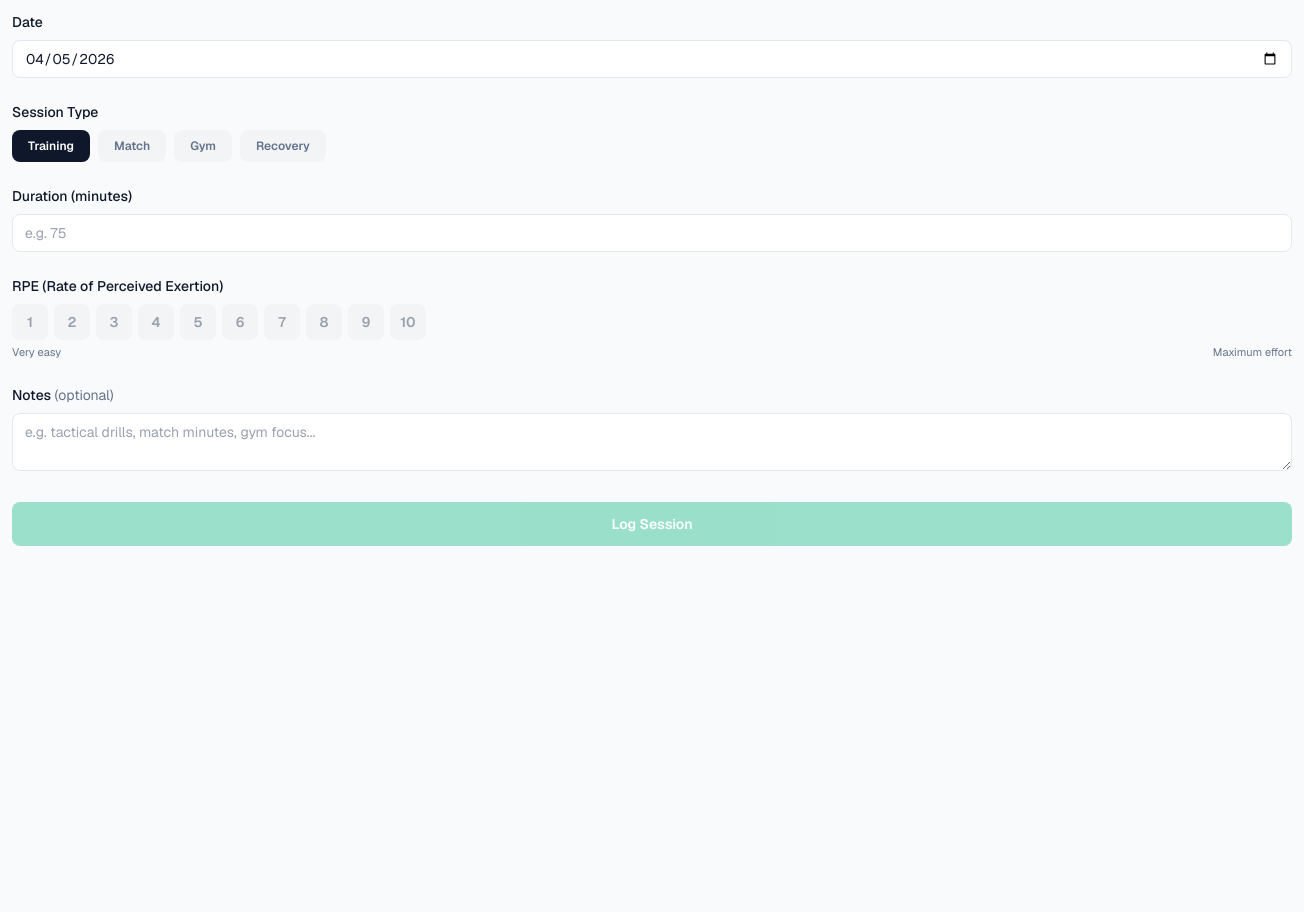
Test: SessionForm submit flow › submits to the API and shows success with session load
Type "75" into the number field labelled "Duration (minutes)" at (652, 233), box [12,214,1292,252]
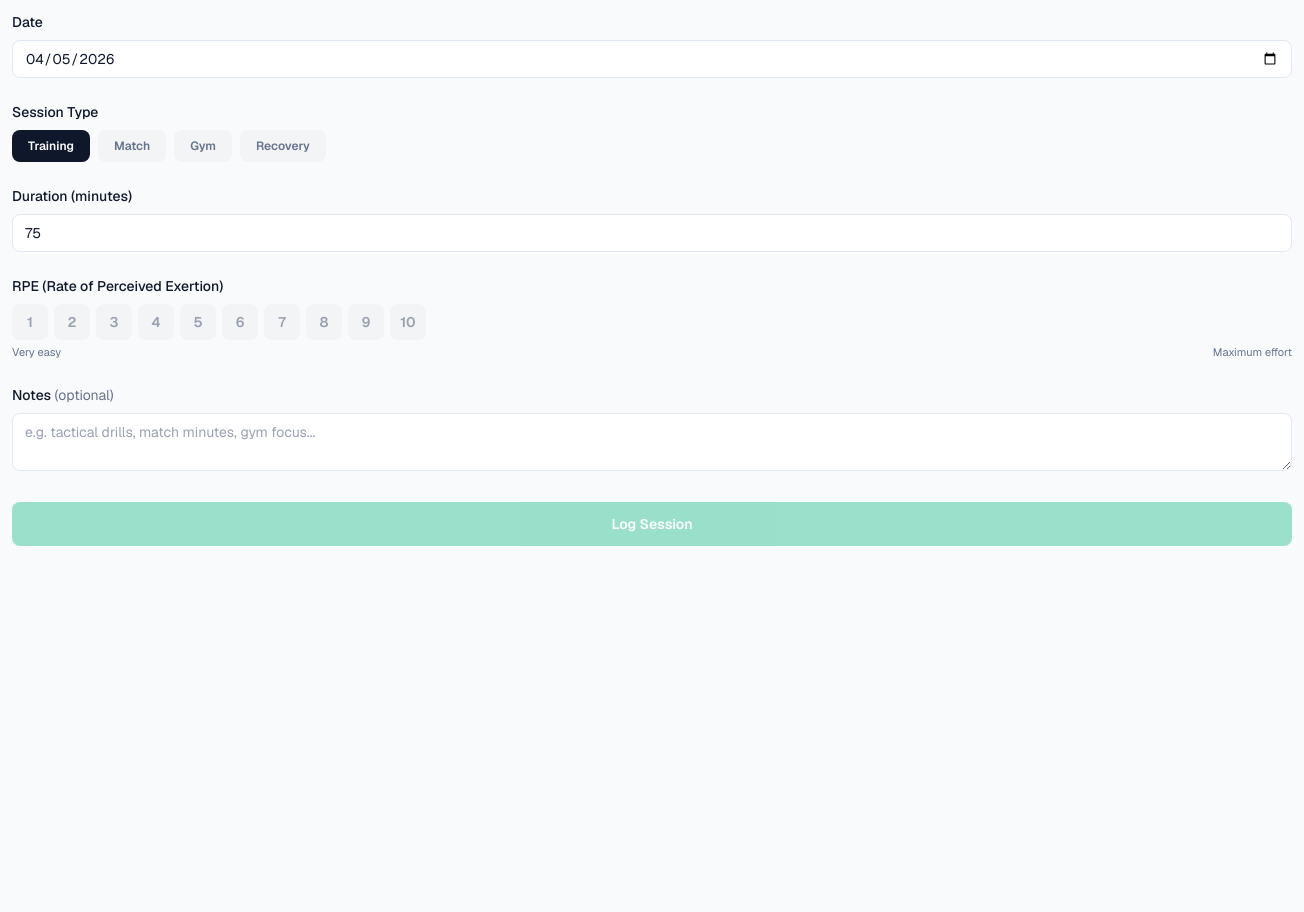
Click the button "6" at (240, 322), box [222,304,258,340]
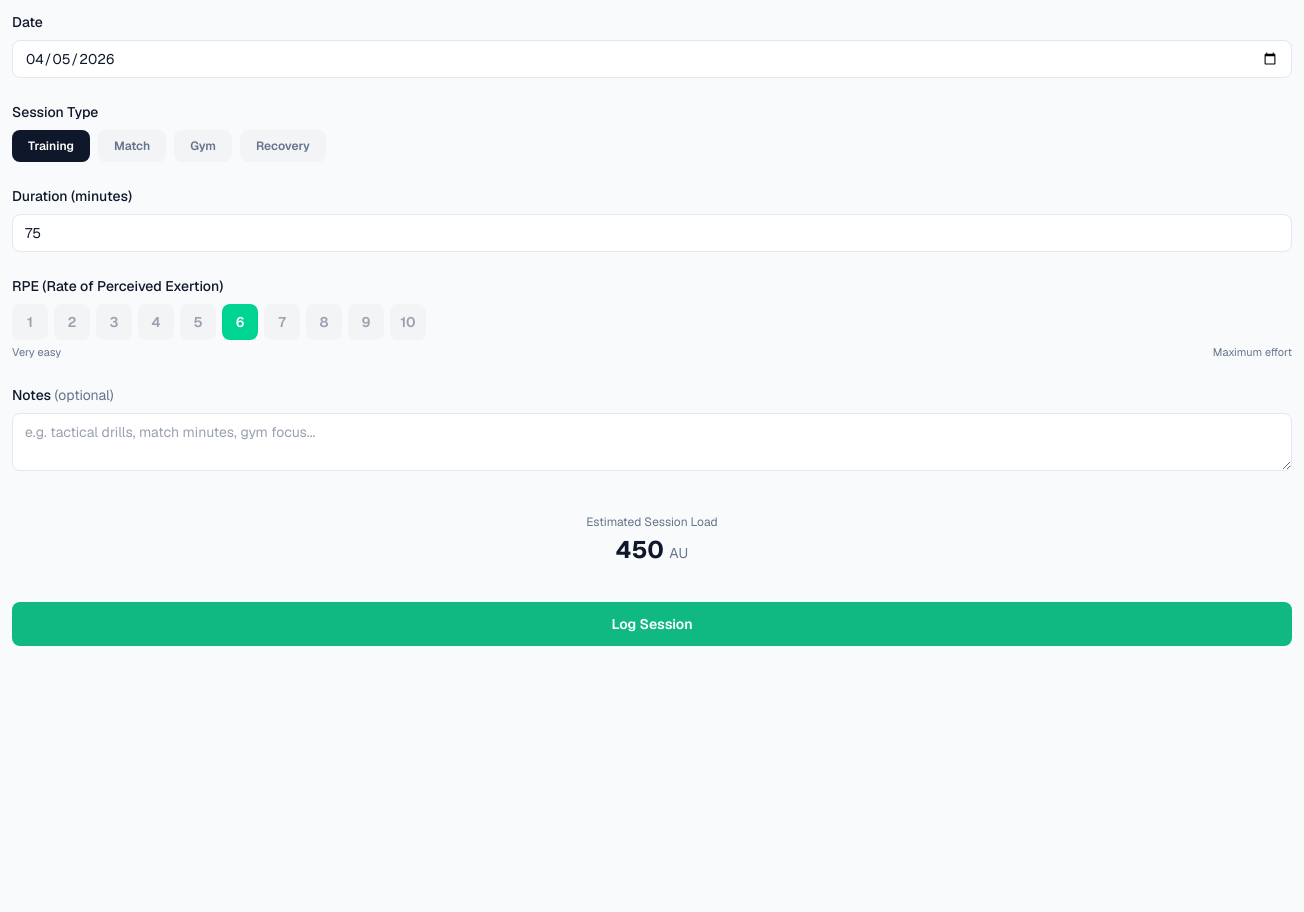
Click the button "Log Session" at (652, 624), box [12,602,1292,646]
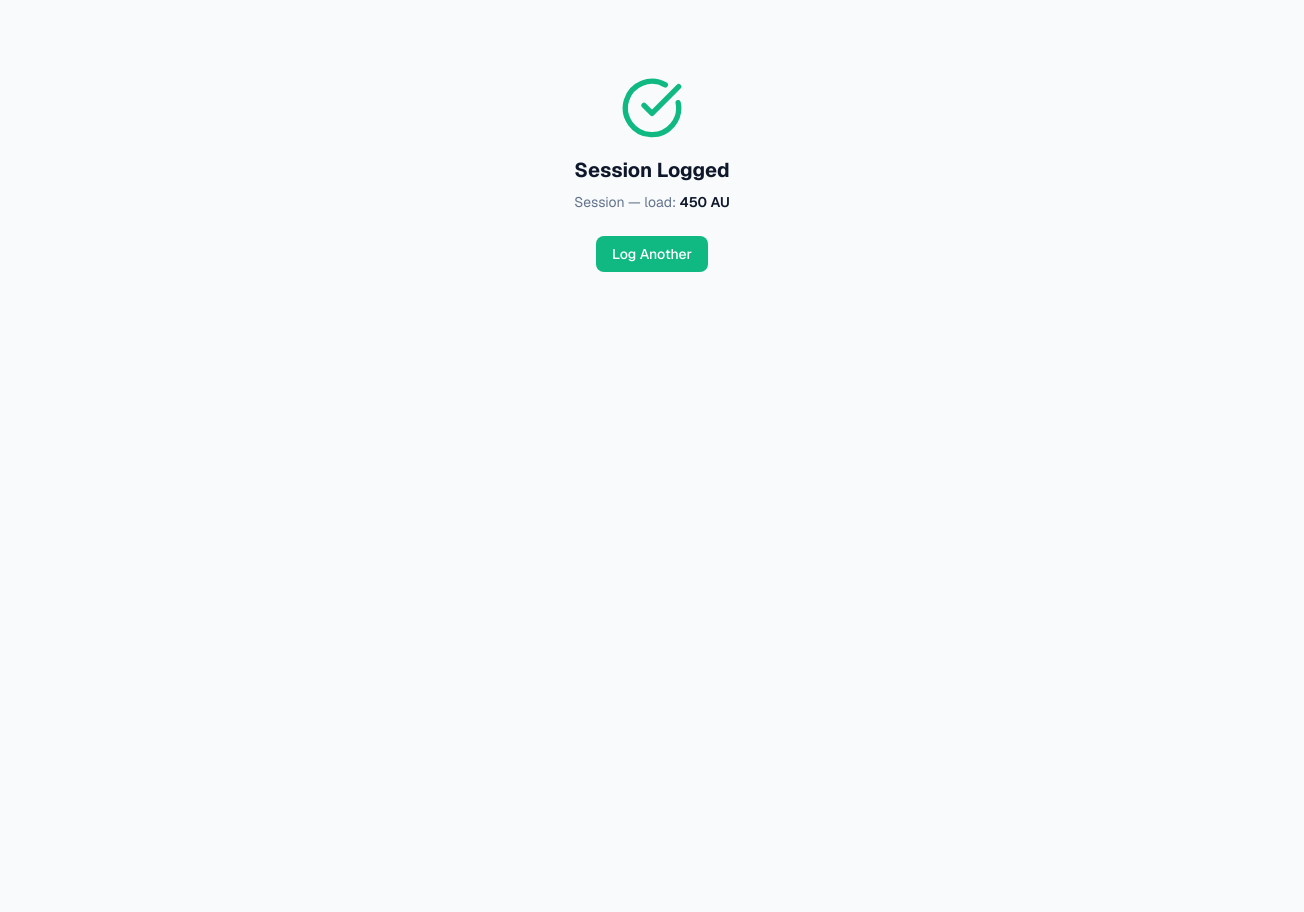
Expected: the text "450 AU" is shown, [680,193,730,211]
Expected: the heading "Session Logged" is shown, [574,156,730,184]
